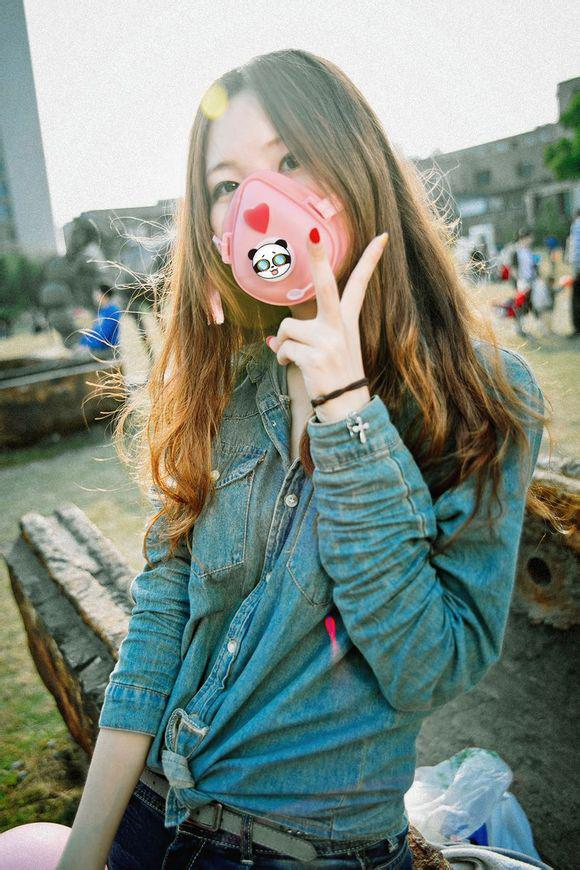OK: (211, 136, 383, 308)
